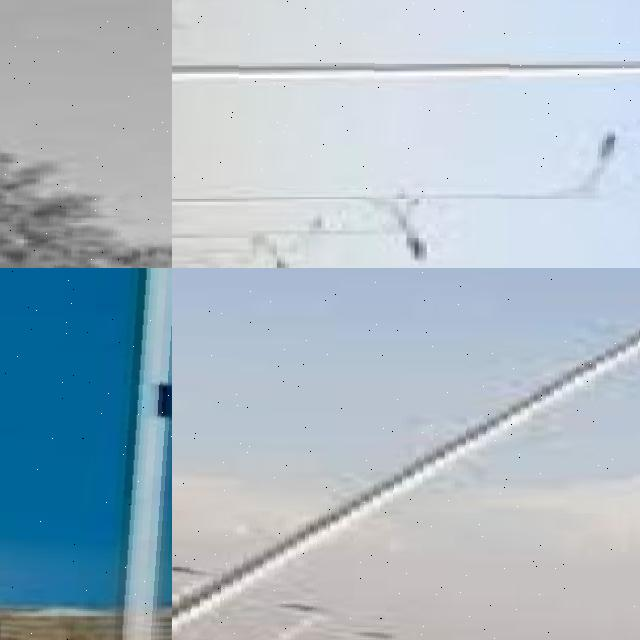street light: (172, 268, 640, 640), (172, 0, 640, 198), (0, 268, 172, 640), (172, 124, 621, 260), (0, 0, 172, 268), (495, 467, 640, 640), (172, 179, 422, 260)
